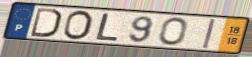9: (127, 15, 158, 44)
D: (29, 7, 63, 39)
I: (201, 18, 218, 50)
L: (94, 13, 121, 43)
O: (61, 9, 94, 41), (157, 16, 189, 47)
